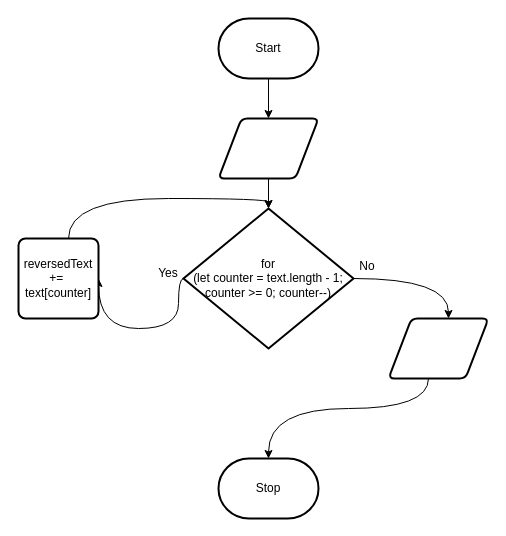
This 506x536 diagram has some shape labels left out. The shapes that lost their labels are listed below. From the top down, each one's centre as x and y in pixels, then its label:
point (268, 148): Input text
point (438, 348): reversedText + "<br><br>Cool, isn't it?"
